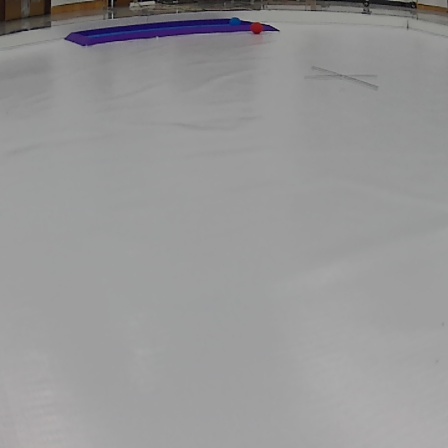blue: (228, 15, 244, 26)
blue_aim: (57, 12, 289, 46)
red: (249, 19, 264, 37)
